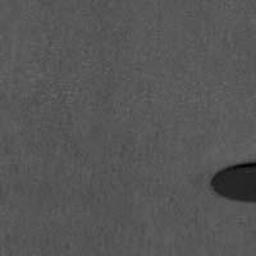Punching: (209, 161, 256, 206)
